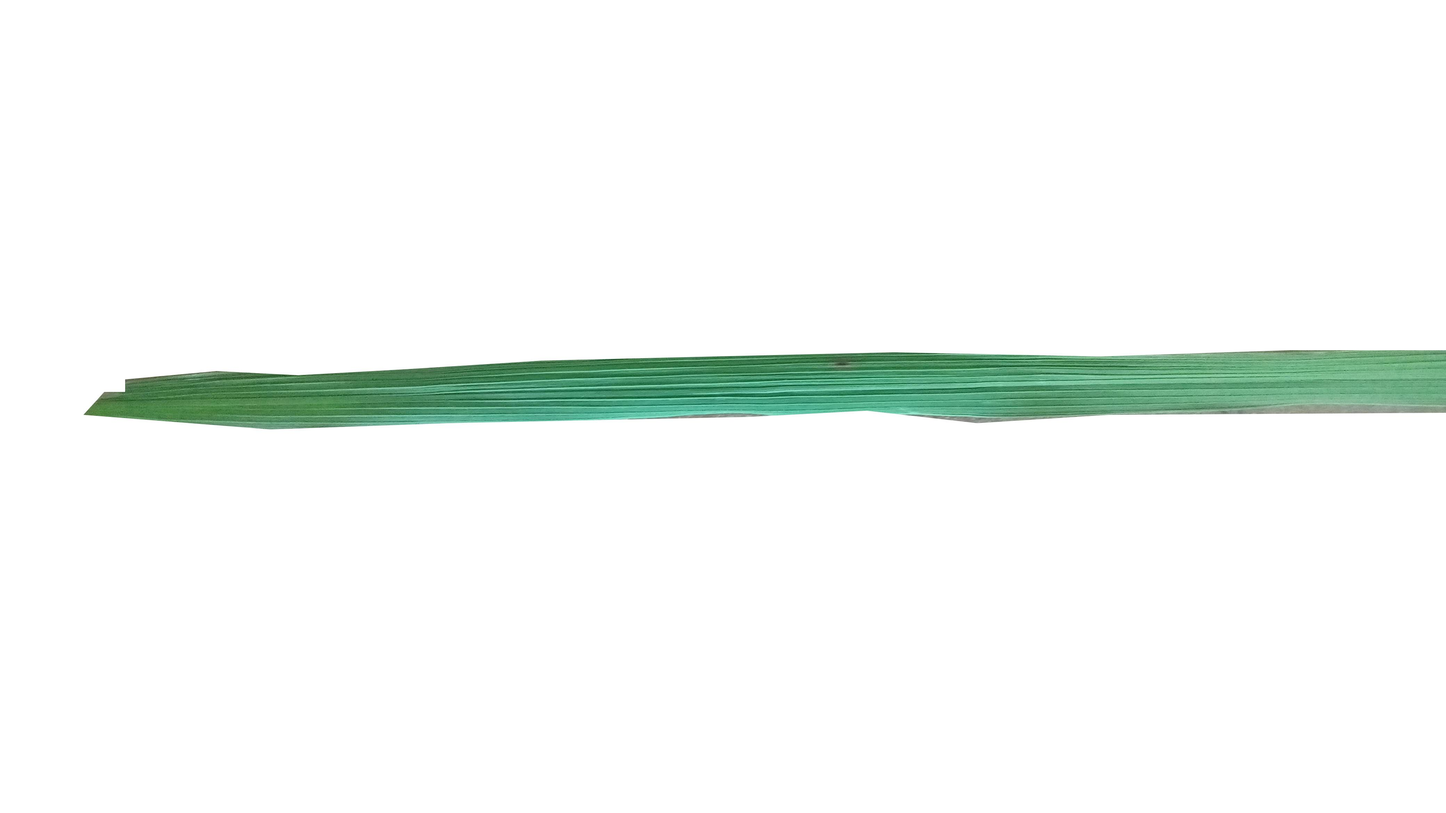Brown spot: (834, 356, 853, 376)
